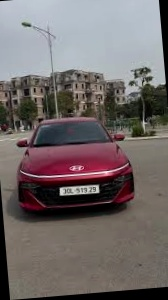Bien-so: (61, 189, 100, 201)
